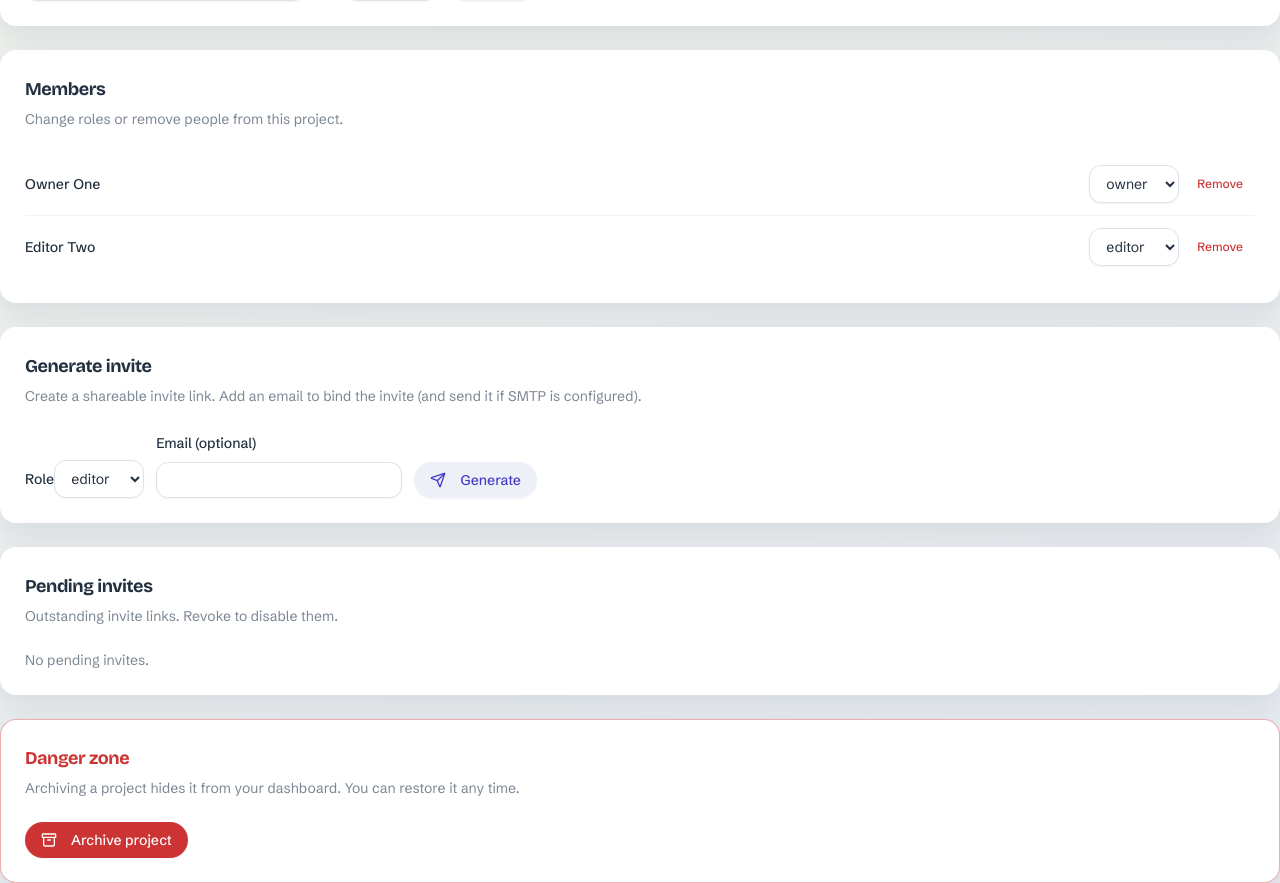
Test: ProjectTab › generating a link-only invite (no email) renders the URL with NO email hint
The image size is (1280, 883).
(page scrolled)
Check: the text "Generate invite" is shown, box [25, 355, 152, 377]
Click the button "Generate": {"x": 476, "y": 480} [414, 462, 537, 498]
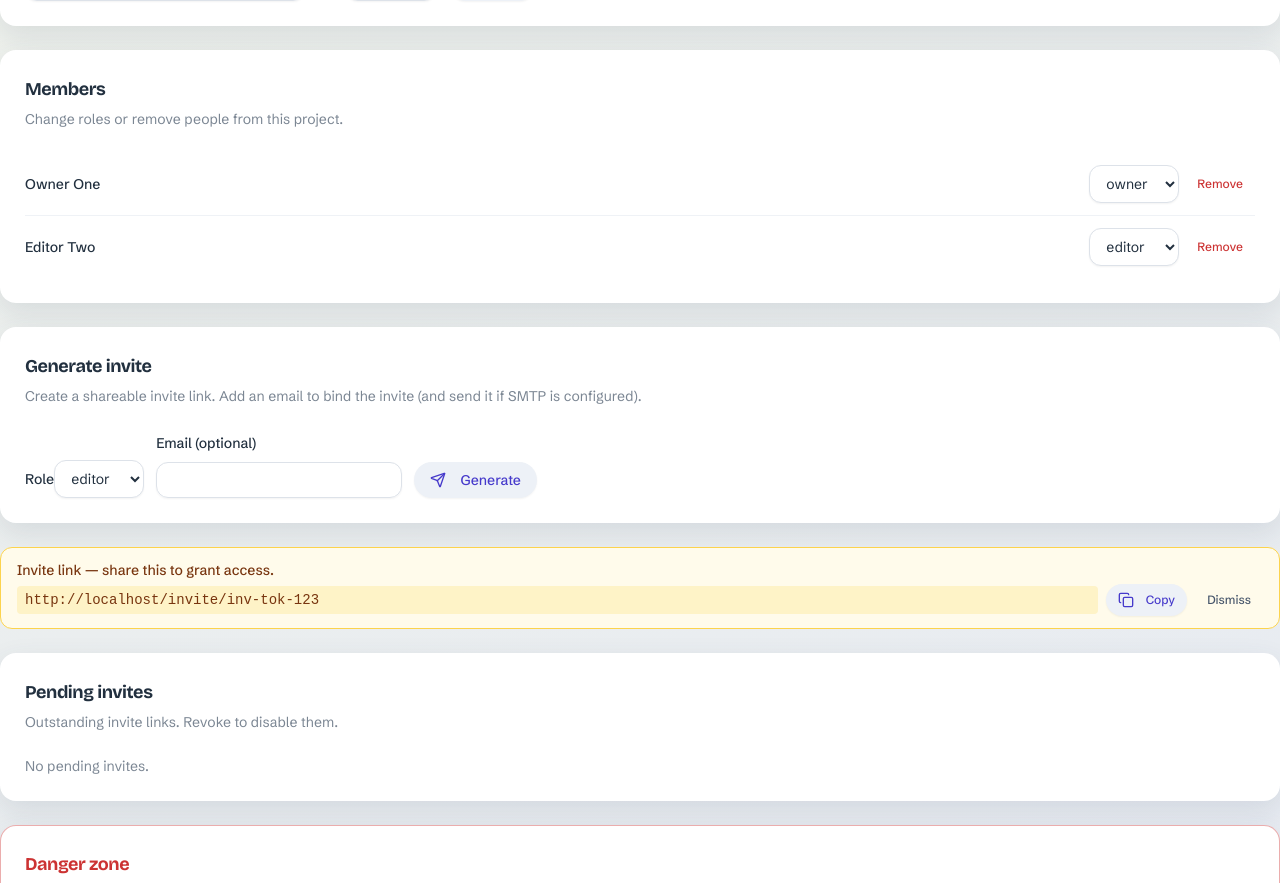
Check: the text "http://localhost/invite/inv-tok-123" is shown, box [17, 586, 1098, 614]
